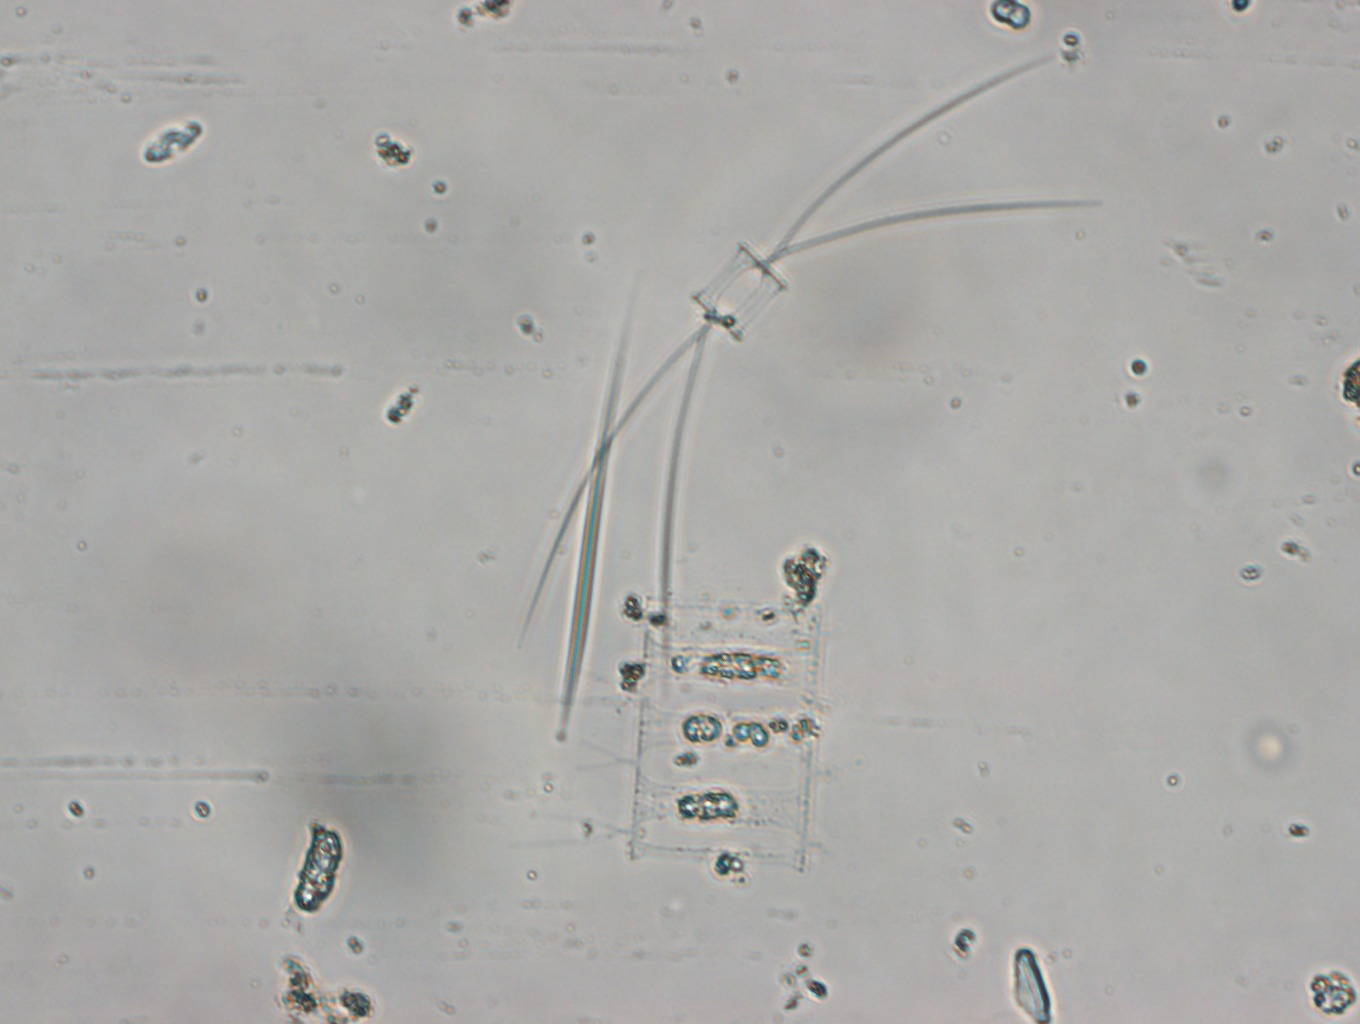chaetoceros: (524, 53, 1117, 705)
